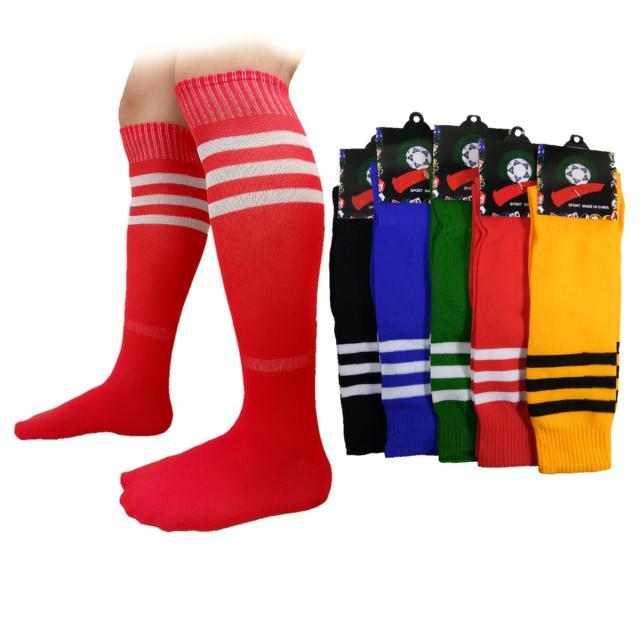sock: (119, 69, 332, 532), (13, 121, 210, 440), (525, 136, 624, 474)
